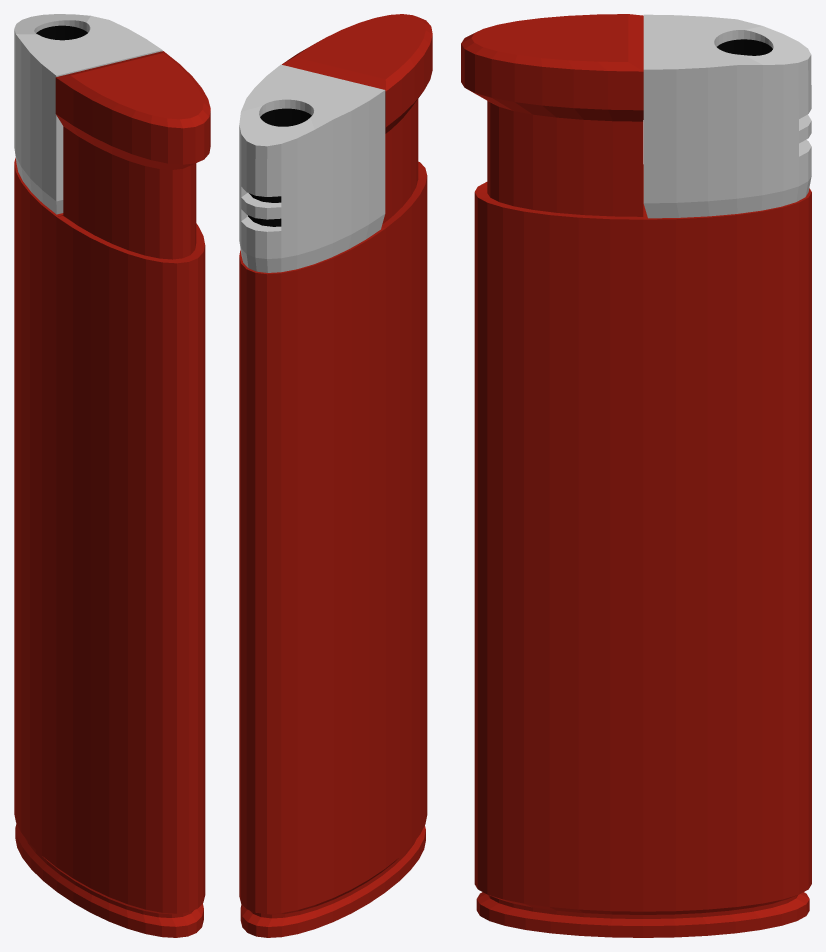
The model's file is lighter.fbx.
3 views of the same model, side by side, from view 1: azimuth 30°, elevation 25°; view 2: azimuth 150°, elevation 25°; view 3: azimuth 270°, elevation 25° (orthographic). The views are drawn at different scales.
Parts seen in each view (by area): view 1: Cylinder; view 2: Cylinder; view 3: Cylinder.
Boxes of the visible parts, x1,y1,x2,y2 form: Cylinder: [14, 14, 210, 937]; Cylinder: [239, 14, 432, 937]; Cylinder: [461, 14, 811, 937].
Bounding box in the file's own units: 78.57 × 571 × 208.
